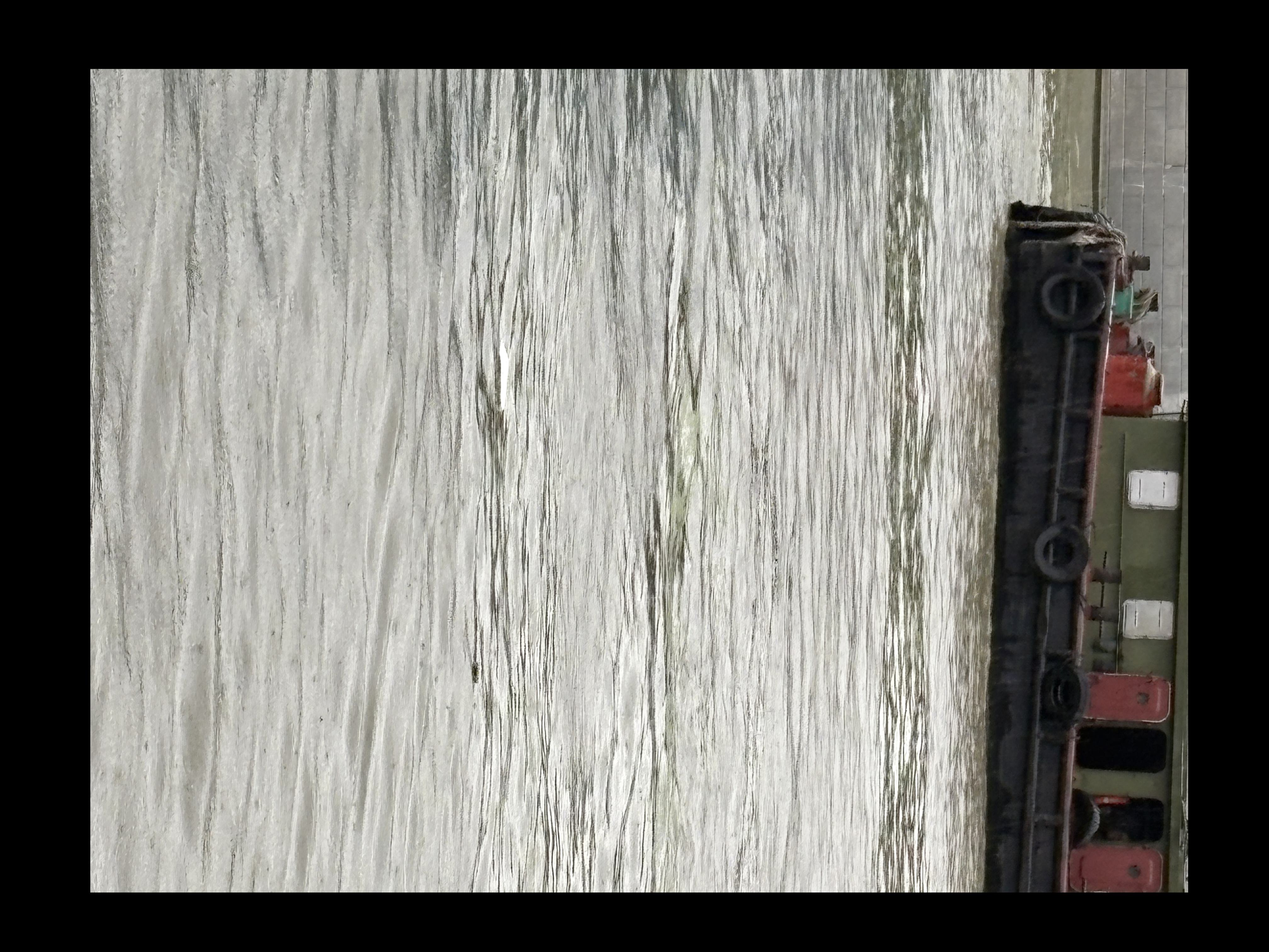Plastic wastes: (891, 326, 908, 393), (866, 639, 877, 665)
